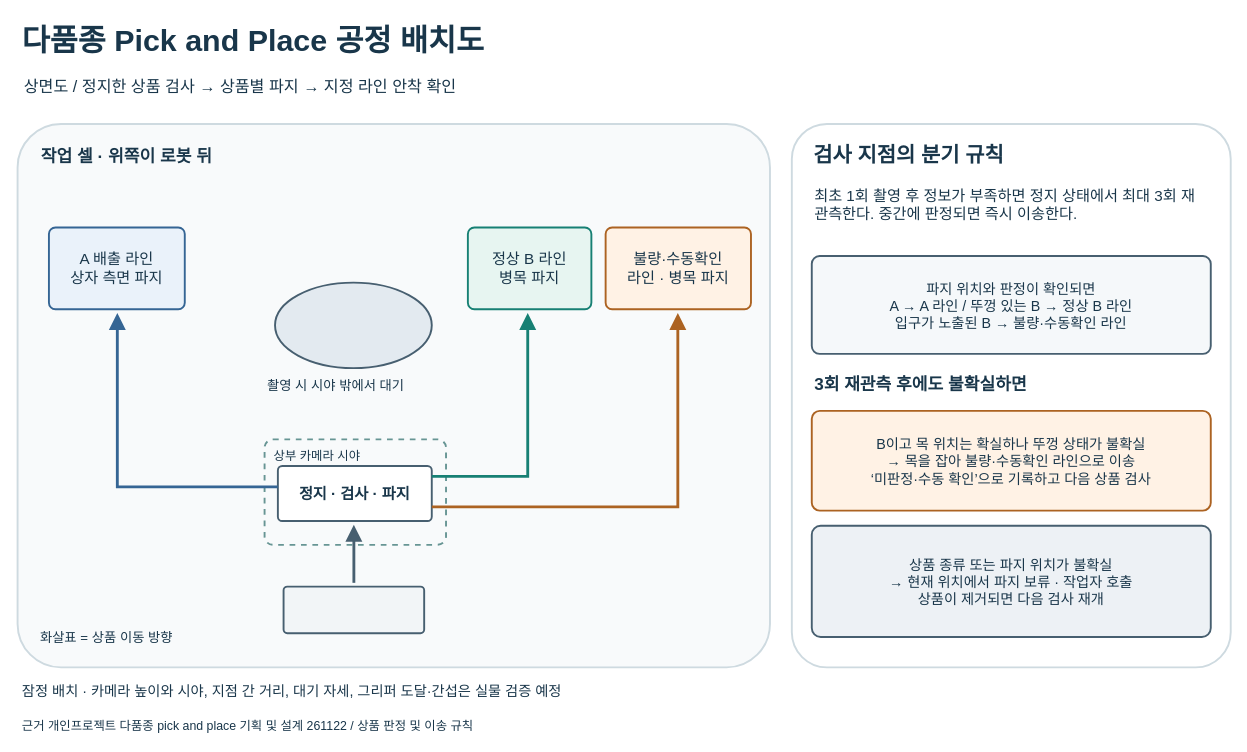
Some shapes in this 1247 by 752 pixel diagram are drawn without their labels. The shapes that lost their labels are listed below. From the top down, each one's centre as x and y in pixels, then its label:
(353,325): myCobot 280 M5Stack
(353,609): 상품 투입
